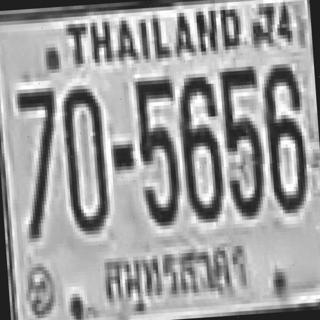N00: (60, 82, 109, 230)
N05: (218, 62, 265, 217), (134, 76, 180, 223)
N06: (260, 60, 306, 210), (176, 72, 222, 220)
N07: (14, 84, 63, 235), (14, 86, 62, 212), (14, 84, 59, 184)
P58: (97, 235, 250, 319)
